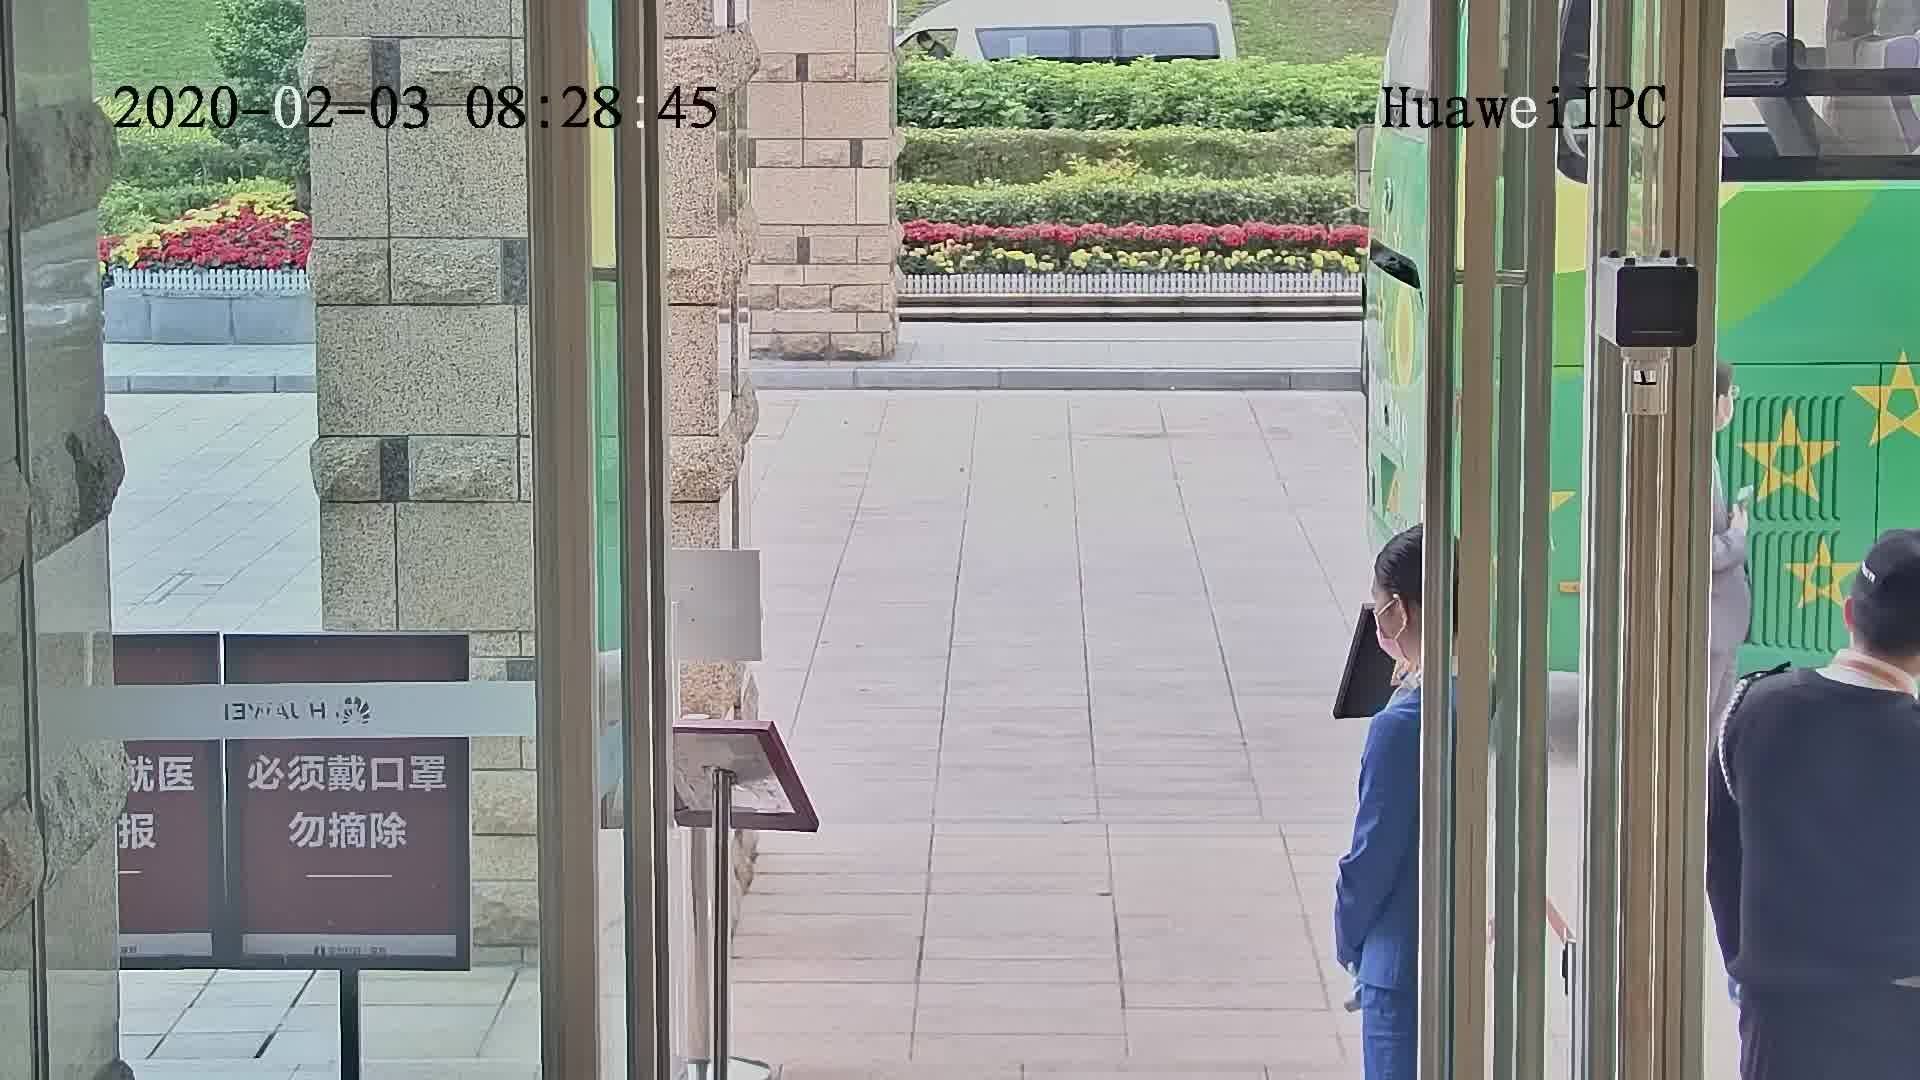person: (1730, 533, 1920, 776), (1356, 517, 1434, 769)
